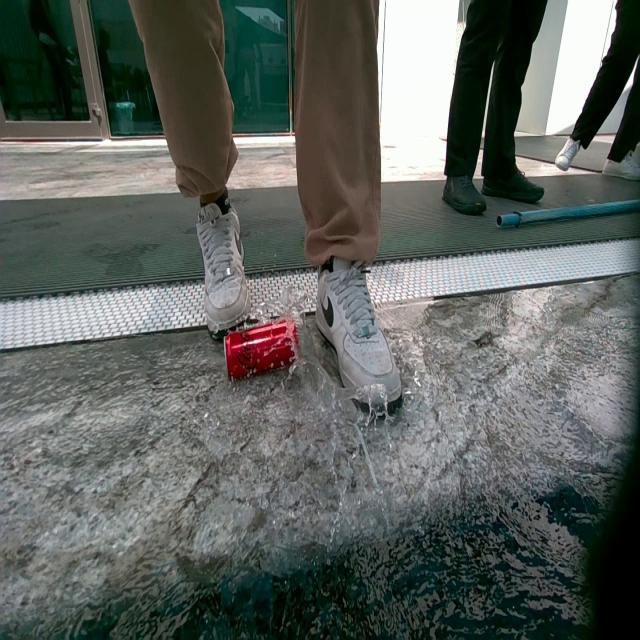Cans: (224, 320, 299, 383)
